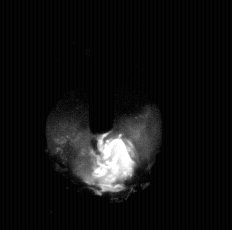arame: (89, 0, 114, 134)
poca: (48, 0, 159, 230)
